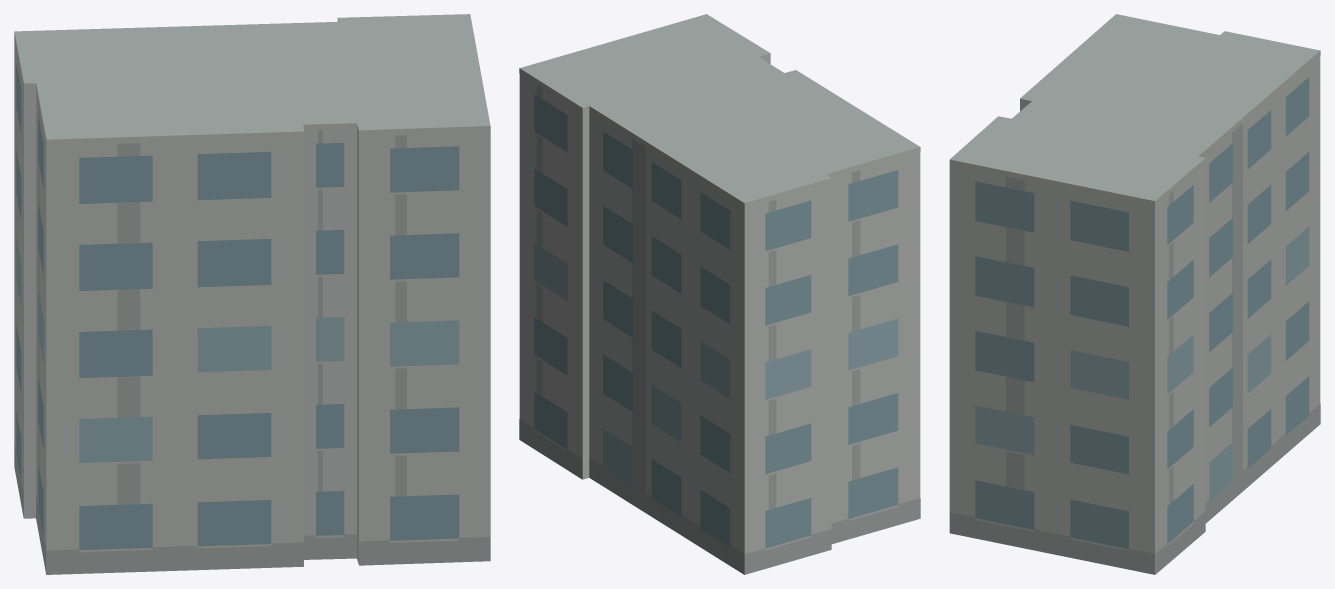
File: survey-upis-32842942.glb
3 renders of one model, left to right at view 1: azimuth 30°, elevation 25°; view 2: azimuth 150°, elevation 25°; view 3: azimuth 270°, elevation 25°, orthographic. The views are drawn at different scales.
Parts seen in each view (by area): view 1: survey-upis-32842942.tmp; view 2: survey-upis-32842942.tmp; view 3: survey-upis-32842942.tmp.
Boxes of the visible parts, bbox=[...] form: survey-upis-32842942.tmp: bbox=[14, 14, 490, 574]; survey-upis-32842942.tmp: bbox=[519, 14, 920, 574]; survey-upis-32842942.tmp: bbox=[949, 14, 1320, 574].
Bounding box in the file's own units: 17.62 × 16.4 × 14.76.
